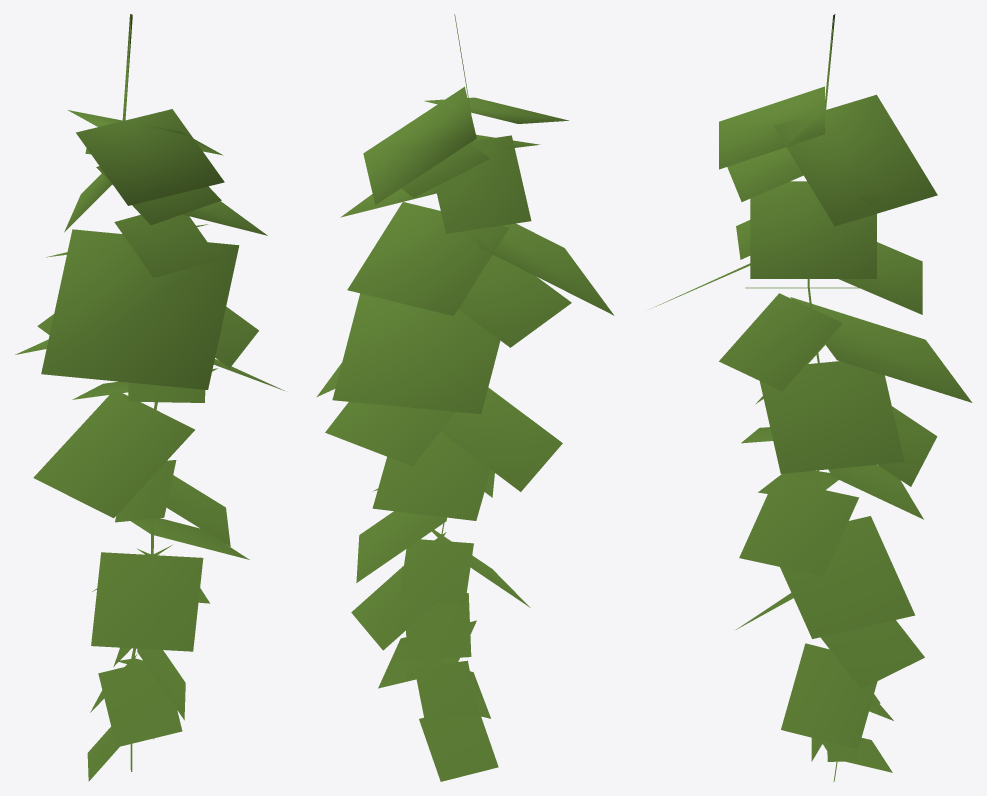
File: Vinewall.fbx
3 views of the same model, side by side, from view 1: azimuth 30°, elevation 25°; view 2: azimuth 150°, elevation 25°; view 3: azimuth 270°, elevation 25° (orthographic). The views are drawn at different scales.
Parts seen in each view (by area): view 1: NurbsPath.001; view 2: NurbsPath.001; view 3: NurbsPath.001.
Part boxes in pixels (x1,y1,x2,y2): NurbsPath.001: (15,14,284,781); NurbsPath.001: (316,14,614,781); NurbsPath.001: (652,14,972,781).
Bounding box in the file's own units: 142 × 400 × 156.
